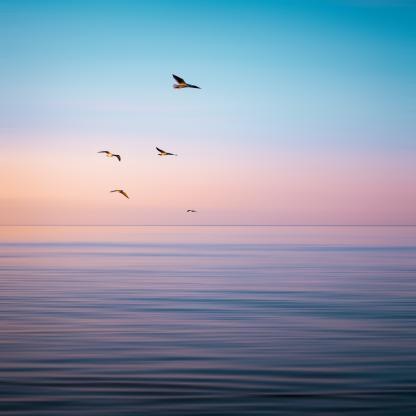bird: (172, 74, 202, 90), (97, 150, 121, 162), (156, 146, 175, 158), (110, 189, 129, 199), (186, 209, 197, 213)
